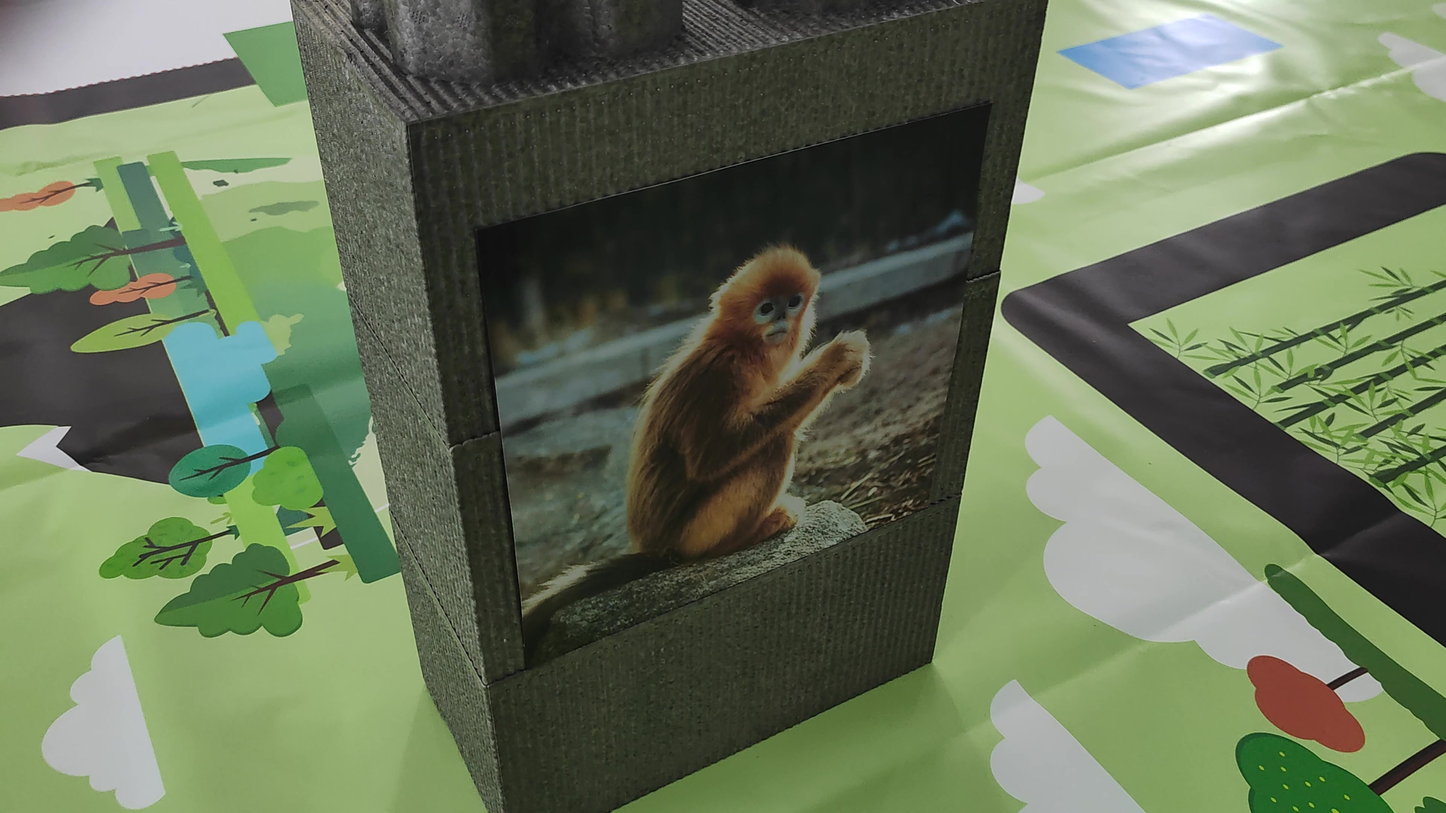monkey: (542, 190, 942, 559)
